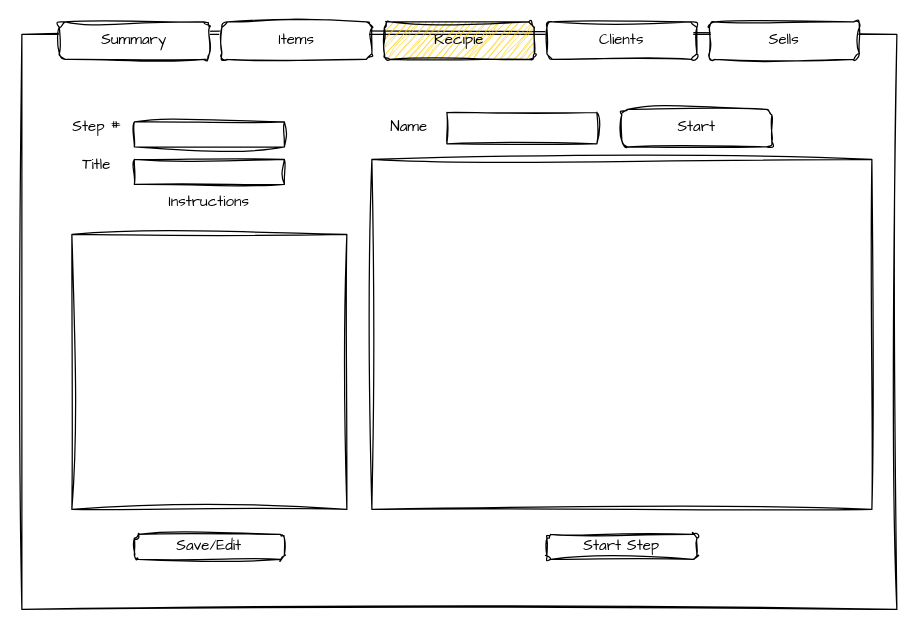
This 919x631 diagram has some shape labels left out. The shapes that lost their labels are listed below. From the top down, each one's centre as x and y in pixels, then its label:
At (621,333): "Table with current recipie steps".
At (209,371): "Text Area to write about the step instruction".
